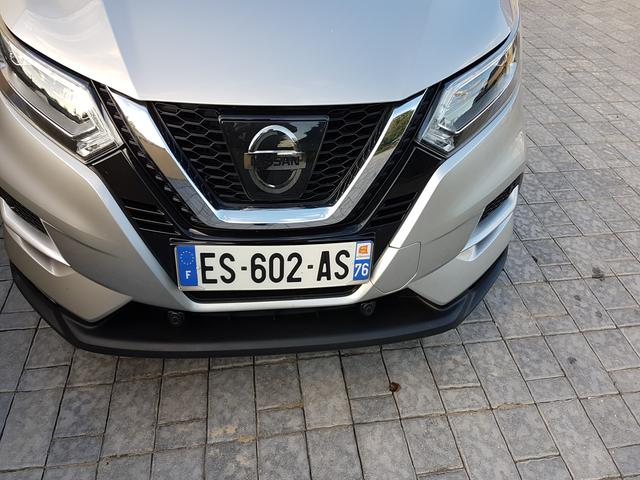Quashquai: (154, 209, 391, 301)
